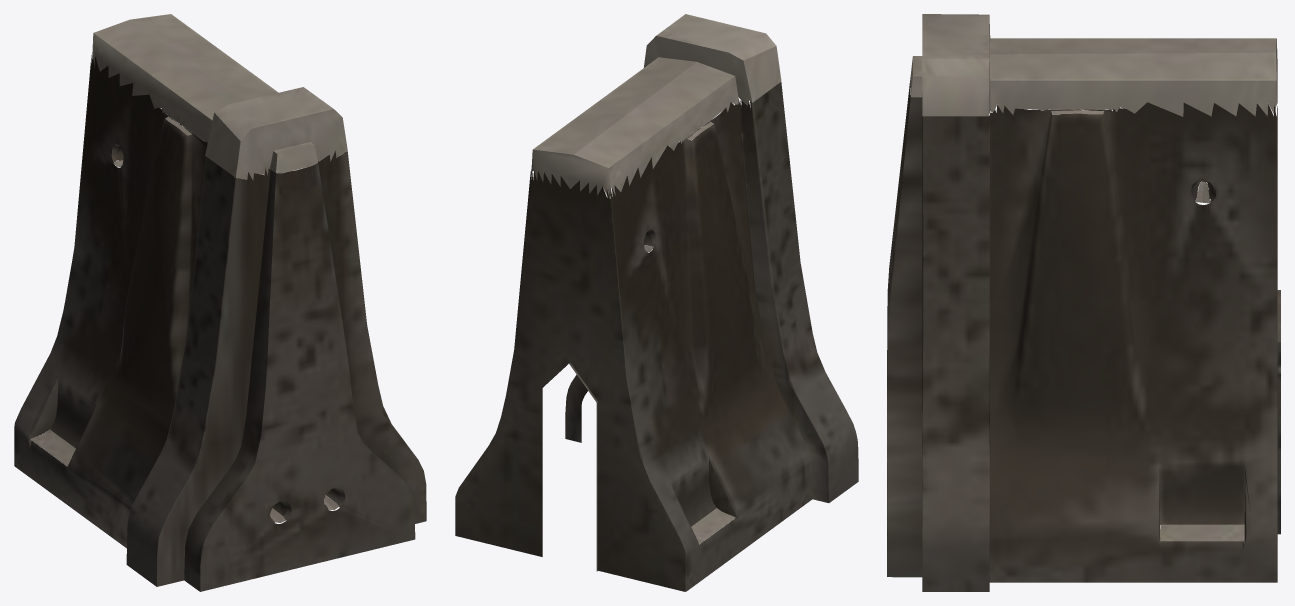
File: stone-wall-n.glb
The picture shows the model from 3 angles, left to right: view 1: azimuth 30°, elevation 25°; view 2: azimuth 150°, elevation 25°; view 3: azimuth 270°, elevation 25°; orthographic projection. The views are drawn at different scales.
Parts seen in each view (by area): view 1: body; view 2: body; view 3: body.
Part boxes in pixels (x1,y1,x2,y2): body: (14, 14, 426, 591); body: (455, 14, 858, 591); body: (887, 14, 1280, 591).
Bounding box in the file's own units: 0.8505 × 1.31 × 0.9682.
Materials: 1 (1 with a texture image).
